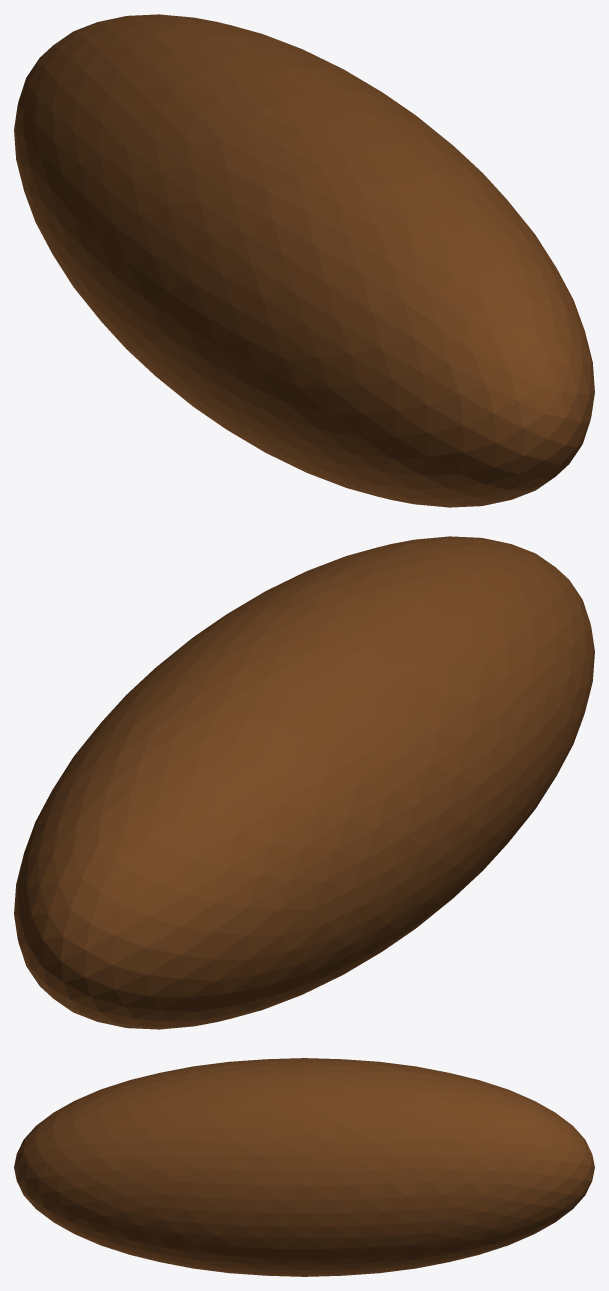
Rendered from arm_left.obj.
3 views of the same model, one above another, from view 1: azimuth 30°, elevation 25°; view 2: azimuth 150°, elevation 25°; view 3: azimuth 270°, elevation 25° (orthographic). The views are drawn at different scales.
Size of the model in its own units: 0.052 by 0.052 by 0.138.
